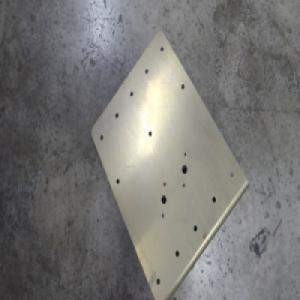MetalSheet: (89, 29, 248, 300)
